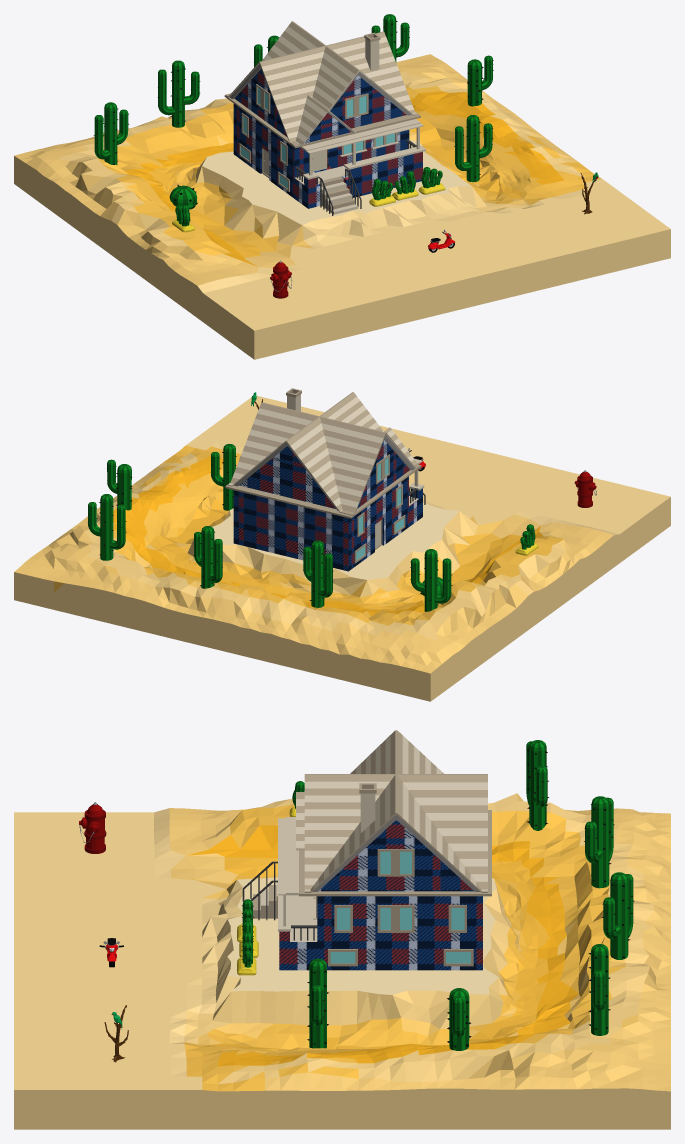
3 views of the same model, one above another, from view 1: azimuth 30°, elevation 25°; view 2: azimuth 150°, elevation 25°; view 3: azimuth 270°, elevation 25° (orthographic). The views are drawn at different scales.
Parts seen in each view (by area): view 1: Cube.001, Cube.171, Cylinder.037, Cylinder.044, Cylinder.045, Cylinder.038, Cylinder.042, OBJRANDOM_FIRE_HYDRANT, Cylinder.039, Cylinder.041, Sphere.023, Cylinder.040; view 2: Cube.001, Cube.171, Cylinder.042, Cylinder.045, Cylinder.044, Cylinder.043, Cylinder.037, Cylinder.038, OBJRANDOM_FIRE_HYDRANT; view 3: Cube.001, Cube.171, Cylinder.043, Cylinder.044, Cylinder.045, Cylinder.042, Cylinder.037, Cylinder.038, OBJRANDOM_FIRE_HYDRANT, Cylinder.041.
Part boxes in pixels (x1,y1,x2,y2): Cube.001: (14,54,670,359); Cube.171: (224,21,425,215); Cylinder.037: (454,115,493,182); Cylinder.044: (157,60,200,127); Cylinder.045: (93,102,129,164); Cylinder.038: (467,55,493,106); Cylinder.042: (371,14,409,62); OBJRANDOM_FIRE_HYDRANT: (270,260,292,298); Cylinder.039: (369,179,395,206); Cylinder.041: (418,167,445,194); Sphere.023: (169,184,197,209); Cylinder.040: (392,171,418,200); Cube.001: (14,395,670,701); Cube.171: (225,388,425,571); Cylinder.042: (88,494,126,560); Cylinder.045: (410,549,452,611); Cylinder.044: (303,540,333,607); Cylinder.043: (193,526,222,588); Cylinder.037: (211,444,240,510); Cylinder.038: (107,459,131,510); OBJRANDOM_FIRE_HYDRANT: (574,470,596,507); Cube.001: (14,793,670,1129); Cube.171: (242,730,491,970); Cylinder.043: (602,872,634,959); Cylinder.044: (584,796,614,888); Cylinder.045: (526,740,548,830); Cylinder.042: (588,944,610,1035); Cylinder.037: (307,958,328,1048); Cylinder.038: (447,988,471,1050); OBJRANDOM_FIRE_HYDRANT: (79,802,106,853); Cylinder.041: (237,932,256,975).
Bounding box in the file's own units: 4002 × 1627 × 4001.
31 materials, 3 textured.
